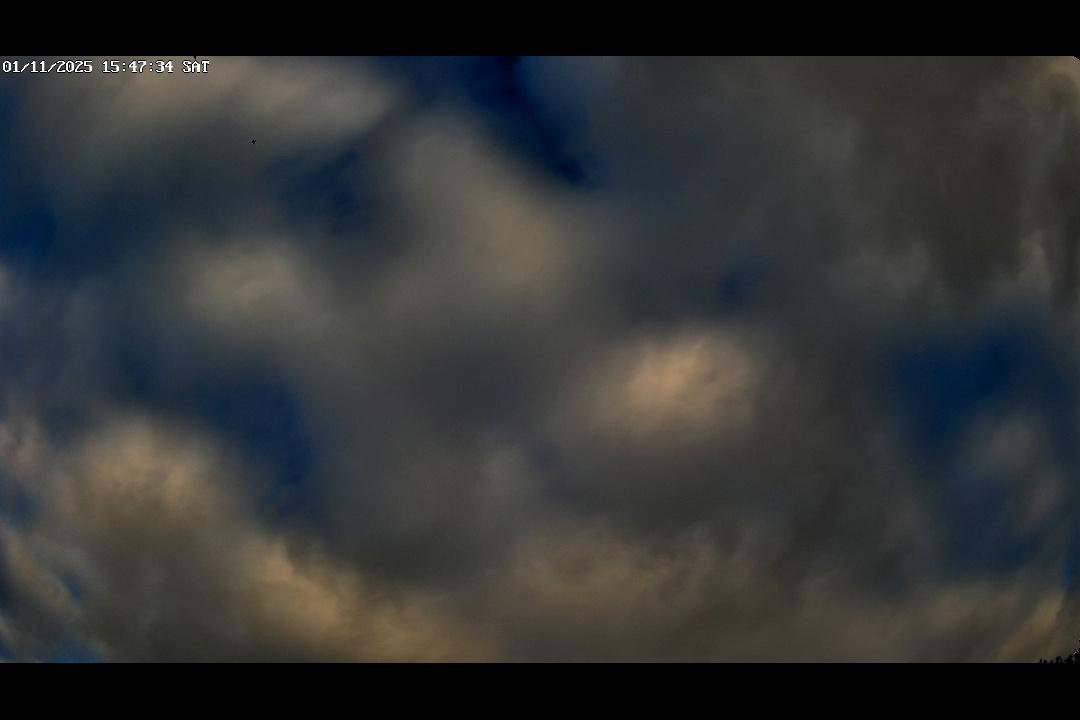WildLife: (248, 134, 262, 148), (188, 55, 202, 62)
